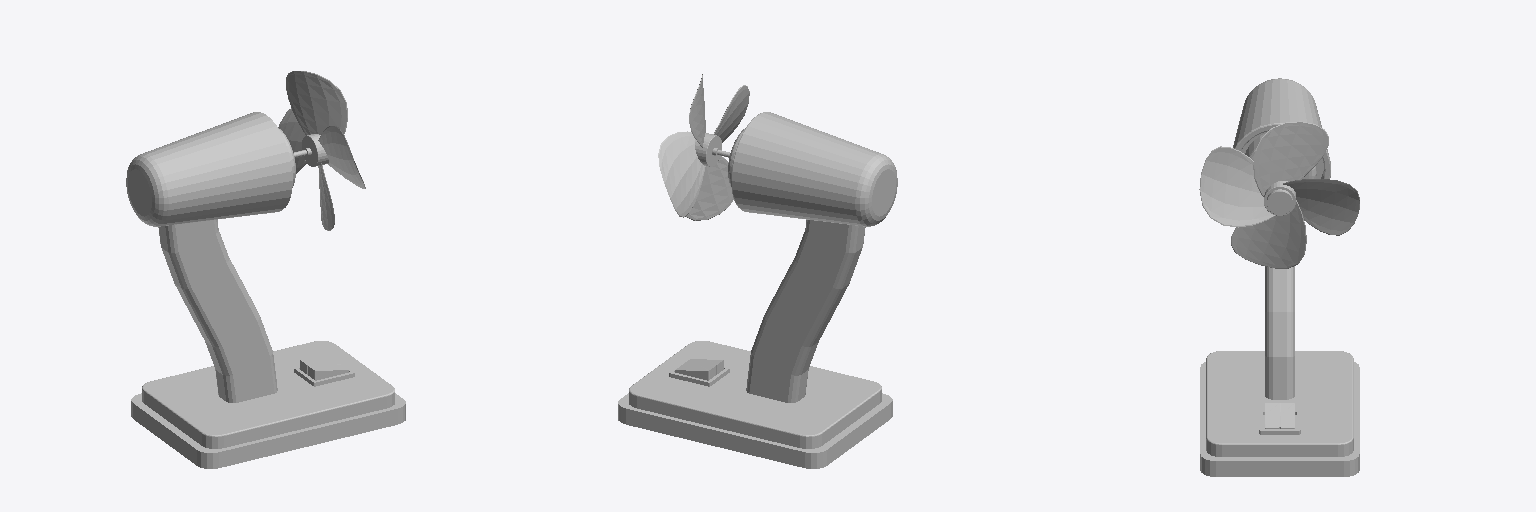
The model's file is Ventilador Retro.obj.
3 renders of one model, left to right at view 1: azimuth 30°, elevation 25°; view 2: azimuth 150°, elevation 25°; view 3: azimuth 270°, elevation 25°, orthographic.
Visible parts, largest first — view 1: Ventilador Retro; view 2: Ventilador Retro; view 3: Ventilador Retro.
Part boxes in pixels (bbox=[...]): Ventilador Retro: bbox=[126, 71, 405, 468]; Ventilador Retro: bbox=[618, 74, 897, 468]; Ventilador Retro: bbox=[1199, 78, 1359, 476].
Size of the model in its own units: 182 by 246 by 109.